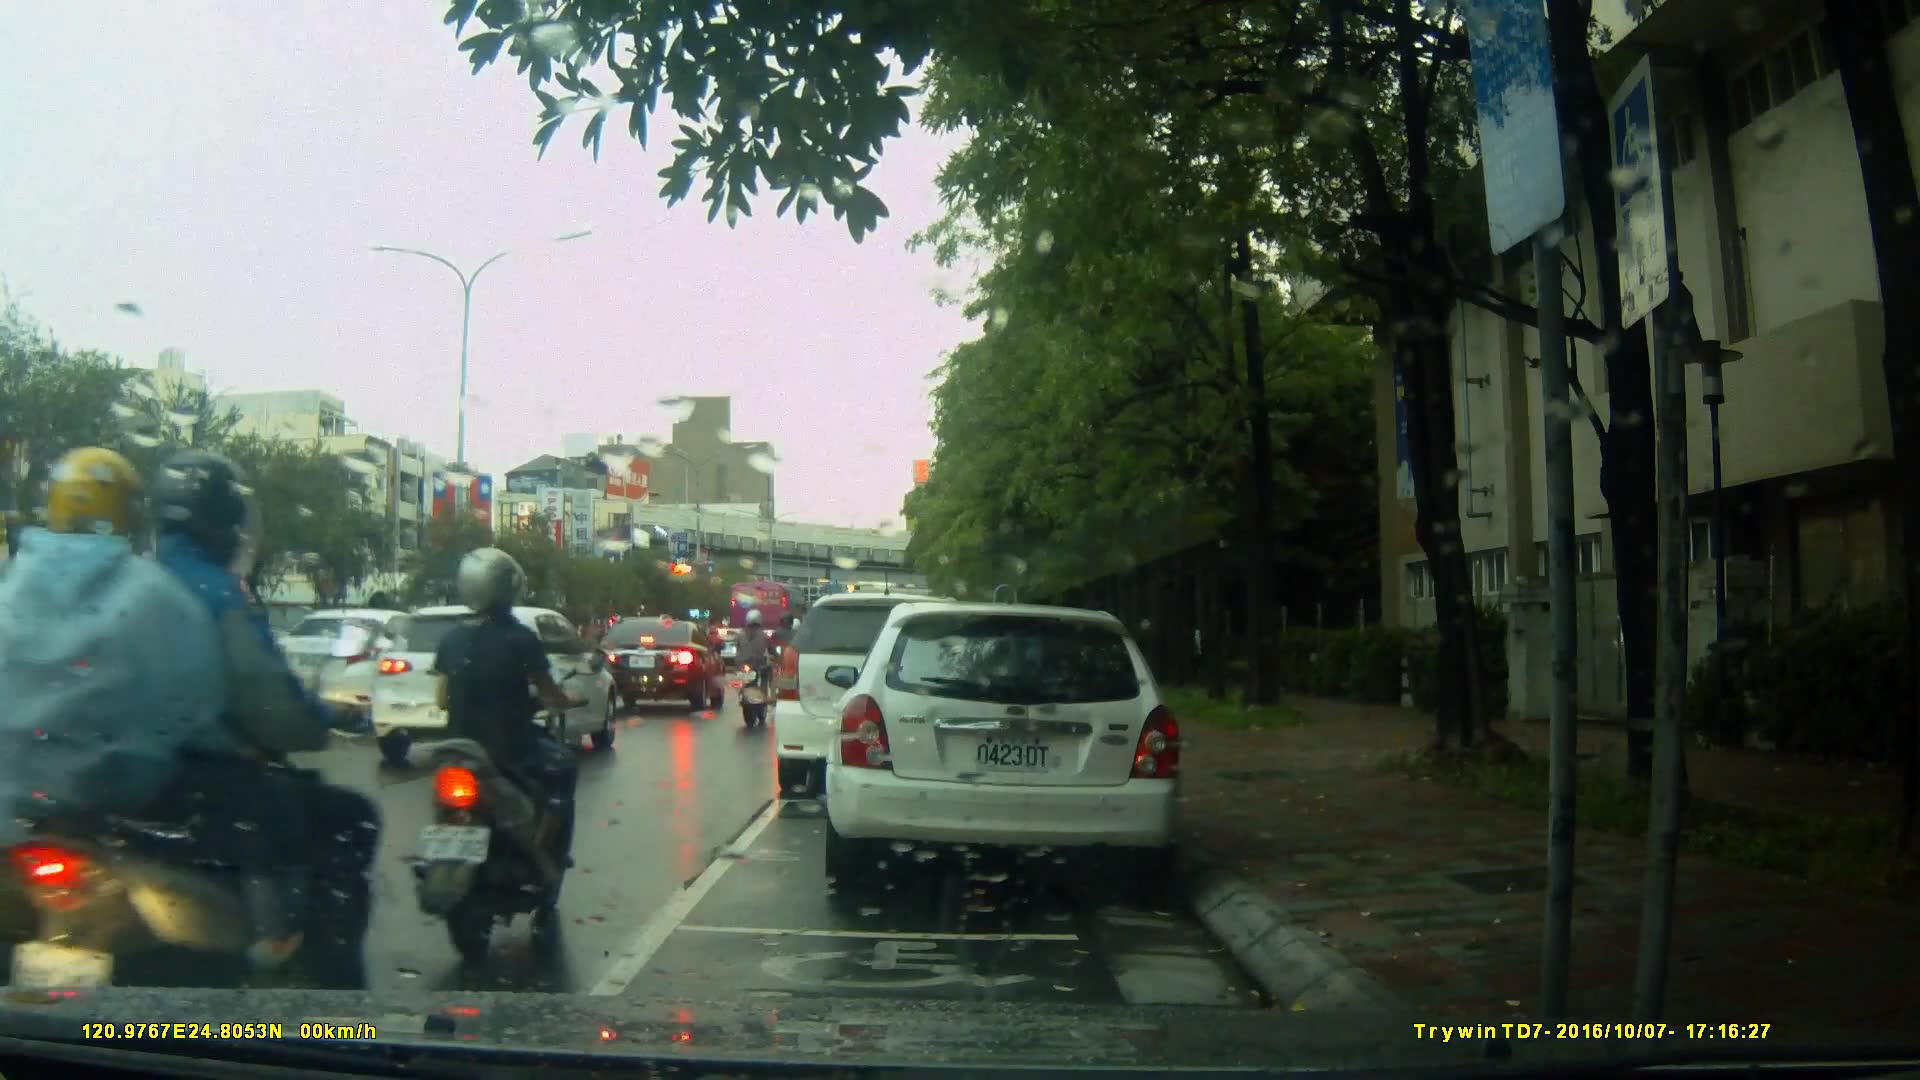rider: (3, 446, 371, 1042), (409, 550, 587, 952), (728, 611, 786, 736)
vehicle: (835, 594, 1194, 898), (776, 590, 1026, 784), (372, 603, 621, 766), (587, 615, 728, 715), (729, 581, 810, 651)
